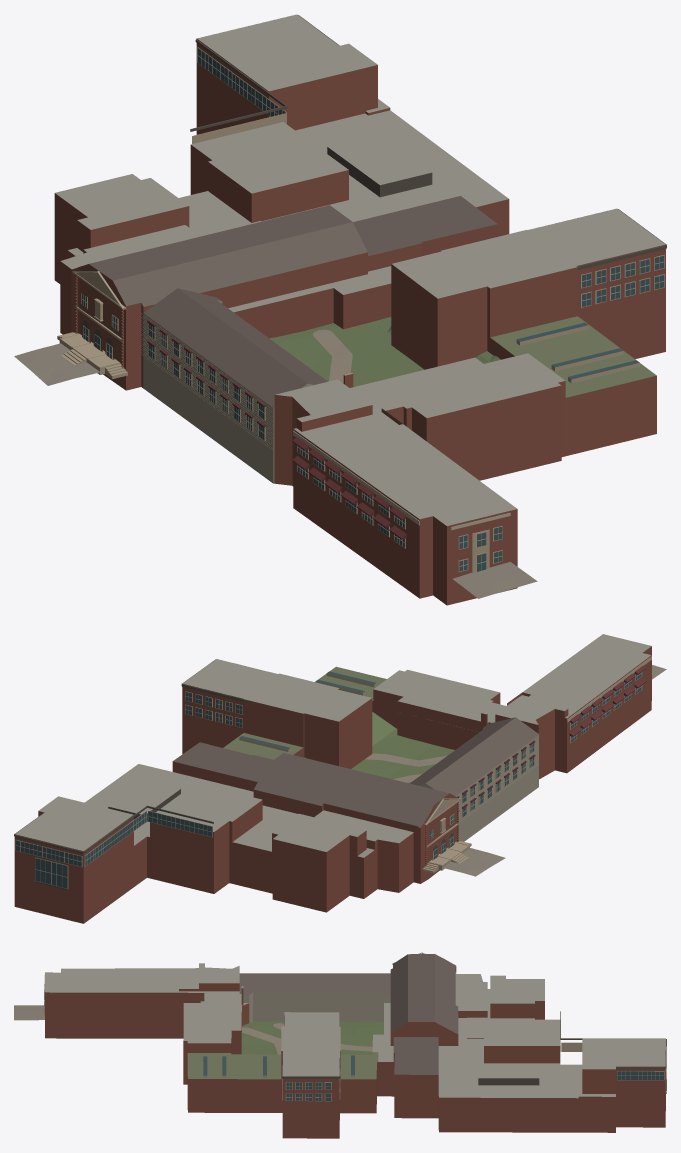
Rendered from site.glb.
3 renders of one model, top to bottom at view 1: azimuth 30°, elevation 25°; view 2: azimuth 150°, elevation 25°; view 3: azimuth 270°, elevation 25°, orthographic. The views are drawn at different scales.
Parts seen in each view (by area): view 1: roof-e4a5429f, frohnmayer-approaches; view 2: roof-e4a5429f, frohnmayer-approaches; view 3: roof-e4a5429f, frohnmayer-approaches.
Part boxes in pixels (x1,y1,x2,y2): roof-e4a5429f: (54,14,666,605); frohnmayer-approaches: (14,317,537,598); roof-e4a5429f: (14,634,651,923); frohnmayer-approaches: (304,665,666,876); roof-e4a5429f: (44,952,666,1138); frohnmayer-approaches: (14,1005,383,1054).
Bounding box in the file's own units: 84.13 × 16.6 × 158.
